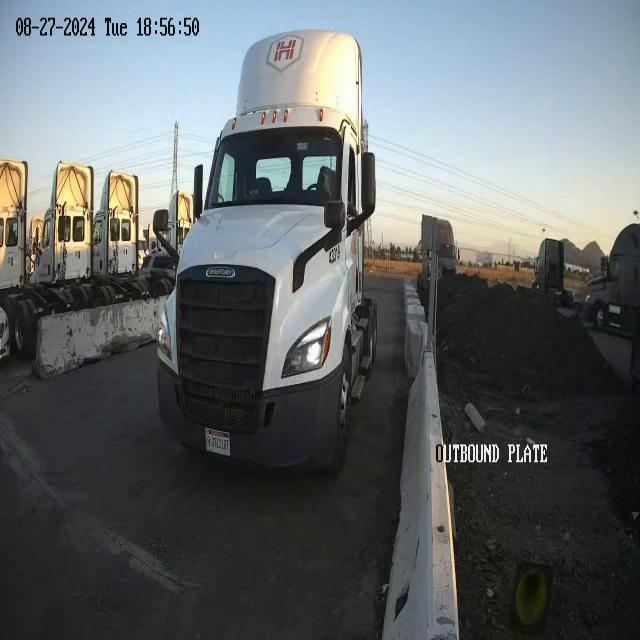TRUCK_OUT: (155, 28, 378, 478)
